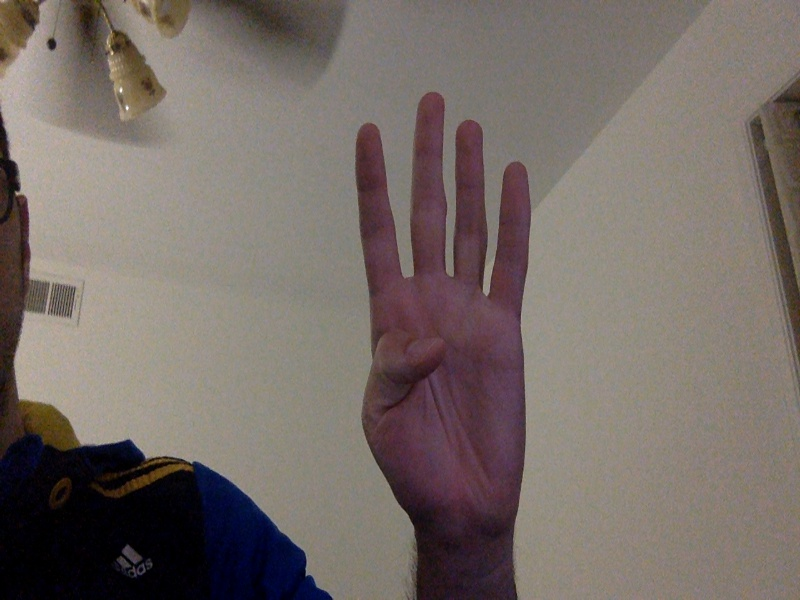4-hand: (353, 92, 533, 529)
